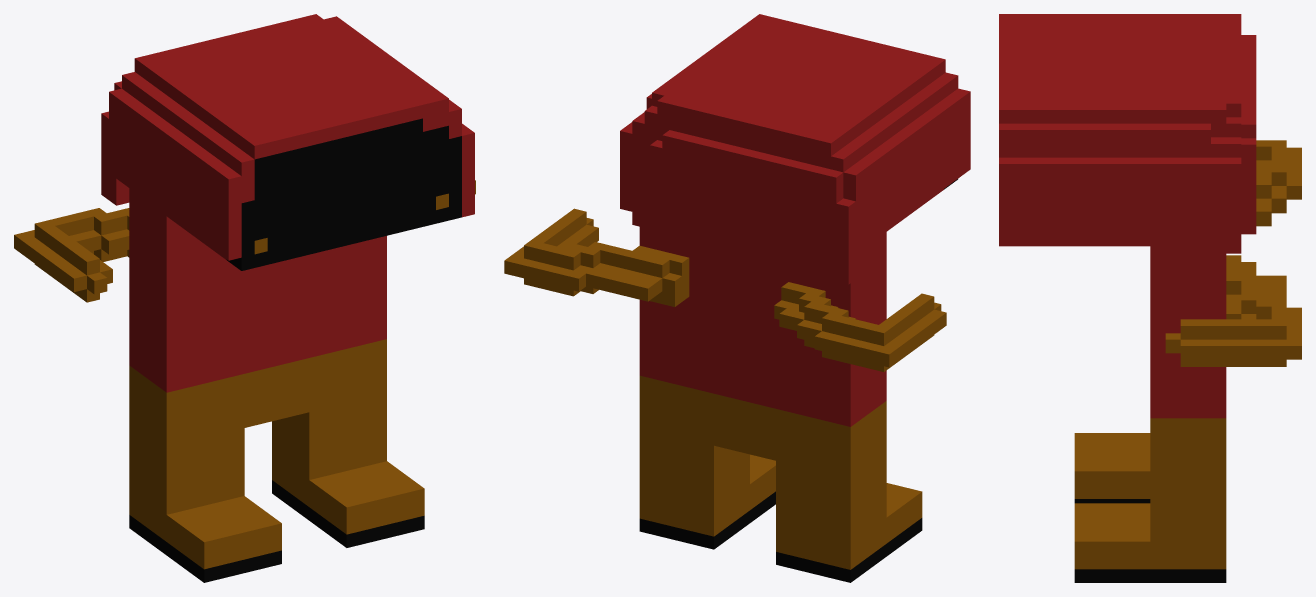
Rendered from Shopkeeper.gltf.
3 views of the same model, side by side, from view 1: azimuth 30°, elevation 25°; view 2: azimuth 150°, elevation 25°; view 3: azimuth 270°, elevation 25° (orthographic). The views are drawn at different scales.
Parts seen in each view (by area): view 1: Layer.1, Layer.2; view 2: Layer.1, Layer.2; view 3: Layer.2, Layer.1.
Boxes of the visible parts, x1=… form: Layer.1: x1=14, y1=180, x2=475, y2=582; Layer.2: x1=101, y1=14, x2=474, y2=270; Layer.1: x1=504, y1=208, x2=946, y2=582; Layer.2: x1=620, y1=14, x2=970, y2=284; Layer.2: x1=999, y1=14, x2=1256, y2=253; Layer.1: x1=1074, y1=140, x2=1301, y2=582.
Size of the model in its own units: 31 by 34 by 20.
Materials: 1 (1 with a texture image).
